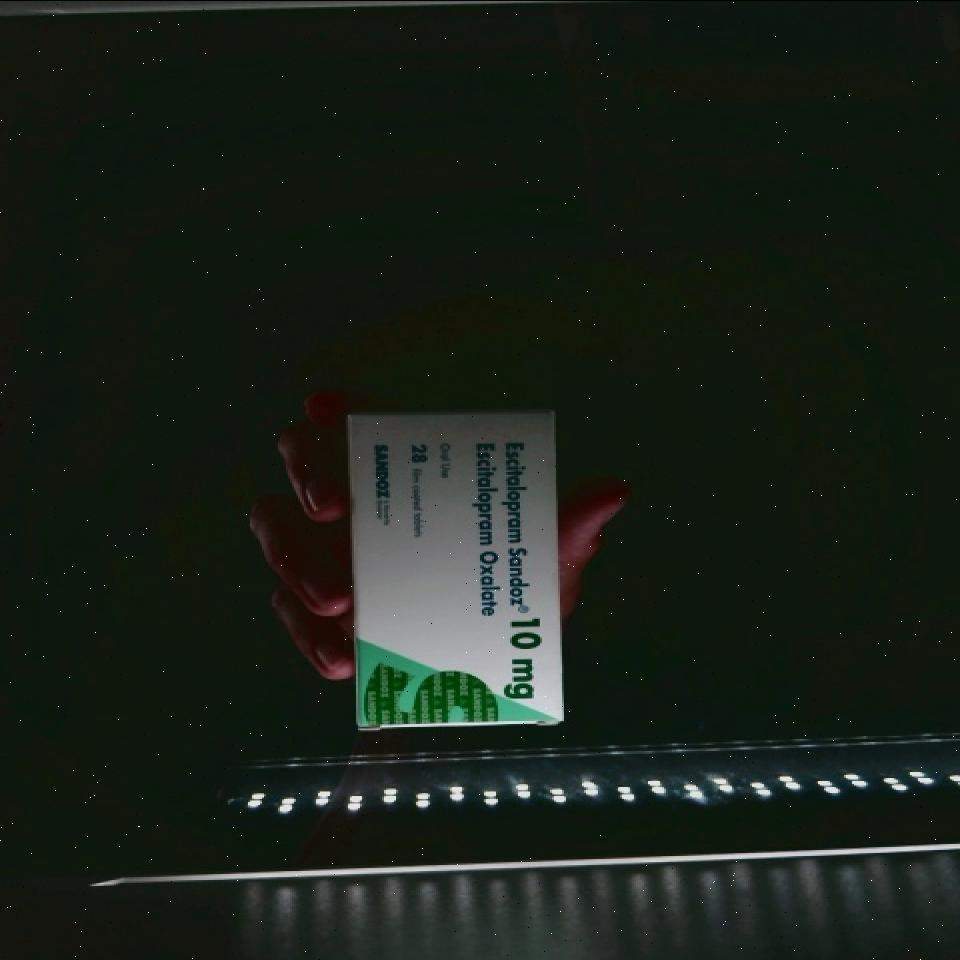medicine_box: (345, 409, 561, 729)
medicine_label_obb: (459, 418, 544, 625)
